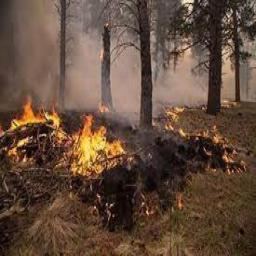Low smoke: (0, 0, 169, 116)
Small fire: (1, 78, 227, 220)
